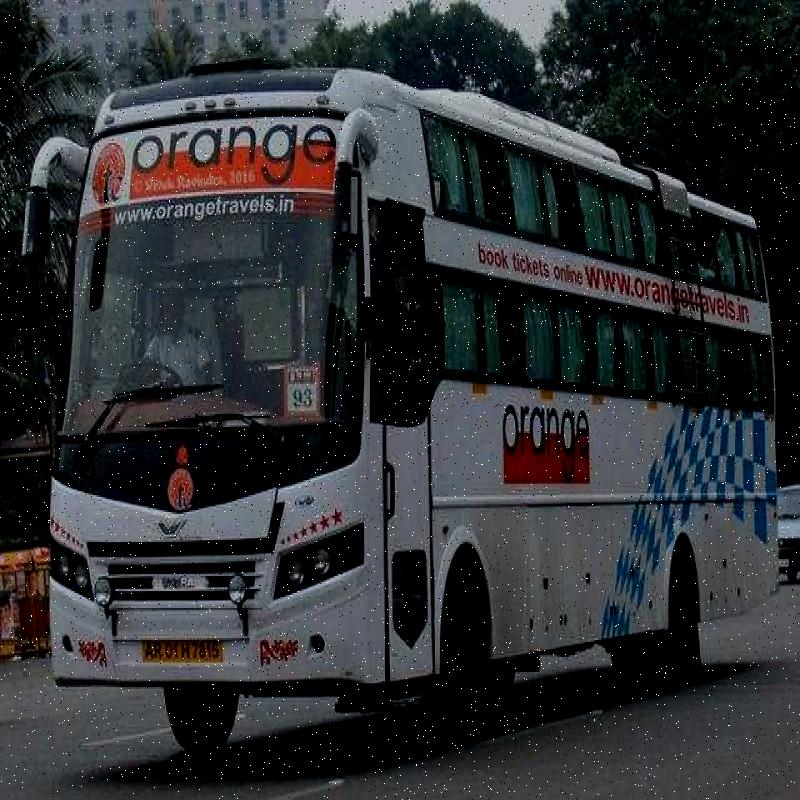bus: (19, 38, 790, 733)
